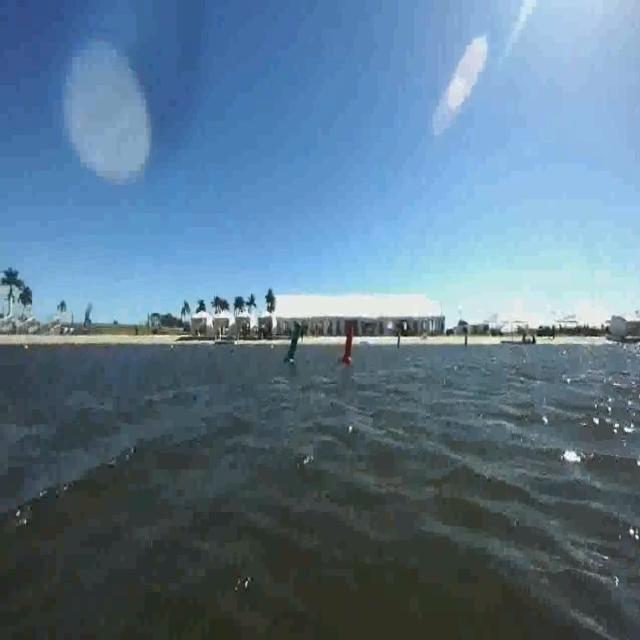green-column-buoy: (284, 321, 304, 365)
red-column-buoy: (343, 325, 357, 367)
